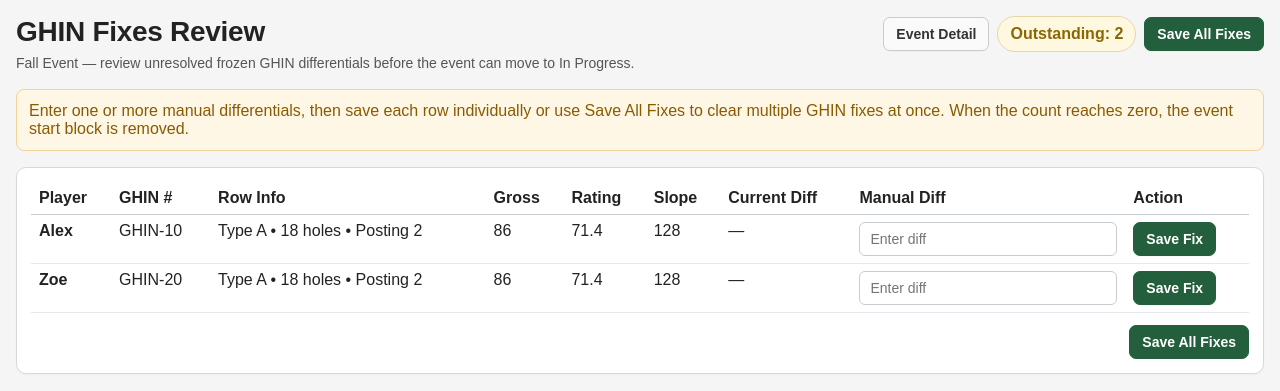
it: Trip GHIN fixes page characterization (before extraction) › saves all entered differentials in display order and reloads the outstanding list
Expected: the heading "GHIN Fixes Review" is shown, x1=16 y1=16 x2=265 y2=47
Expected: the text "Alex" is shown, x1=39 y1=222 x2=73 y2=239
Type "10.1" into the field with placeholder "Enter diff" in the row of "Alex" at (988, 239), box x1=859 y1=222 x2=1117 y2=256
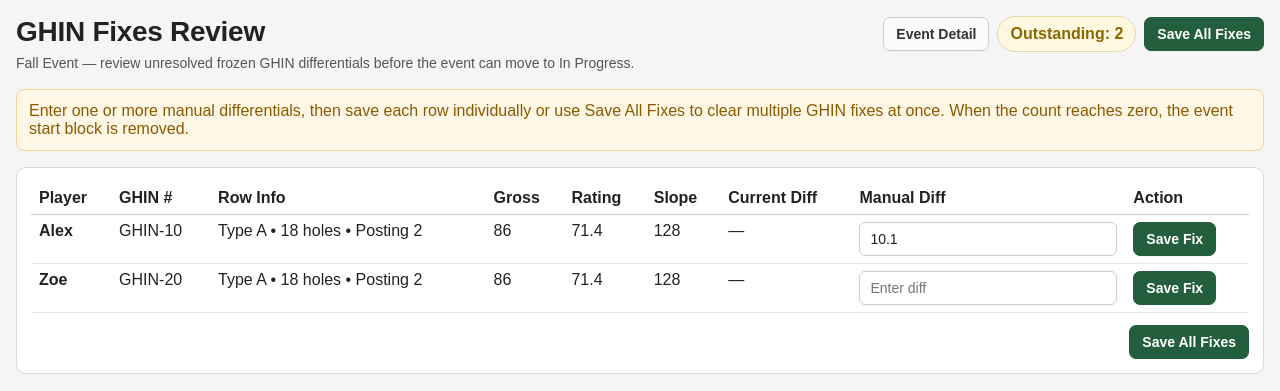
Type "11.2" into the field with placeholder "Enter diff" at (988, 288), box x1=859 y1=271 x2=1117 y2=305
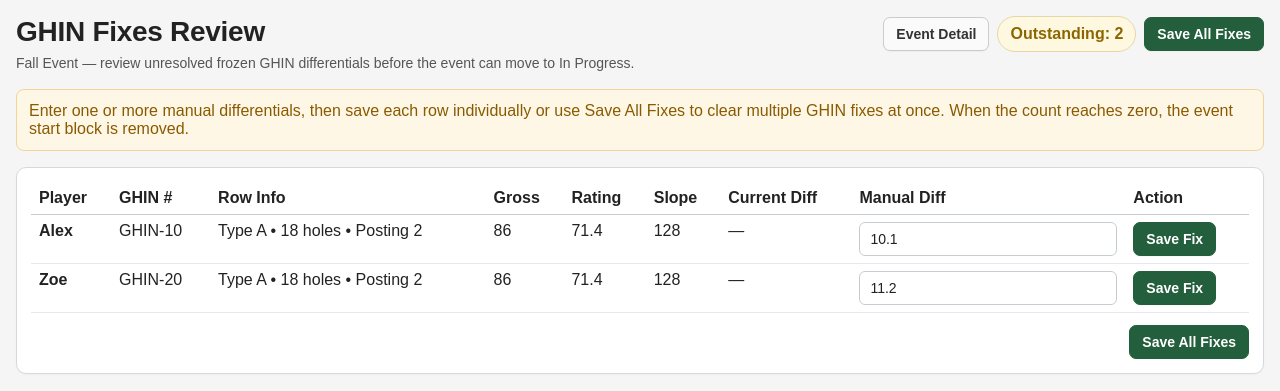
Click the button "Save All Fixes" in the row of "Outstanding:" at (1204, 34), box x1=1144 y1=17 x2=1264 y2=51
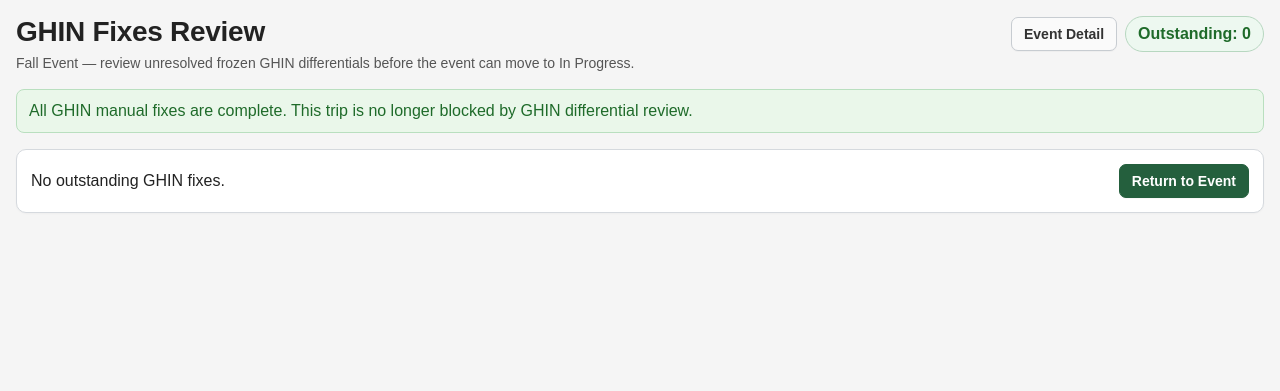
Now the text "Outstanding: 0" is shown, box x1=1125 y1=16 x2=1264 y2=52
